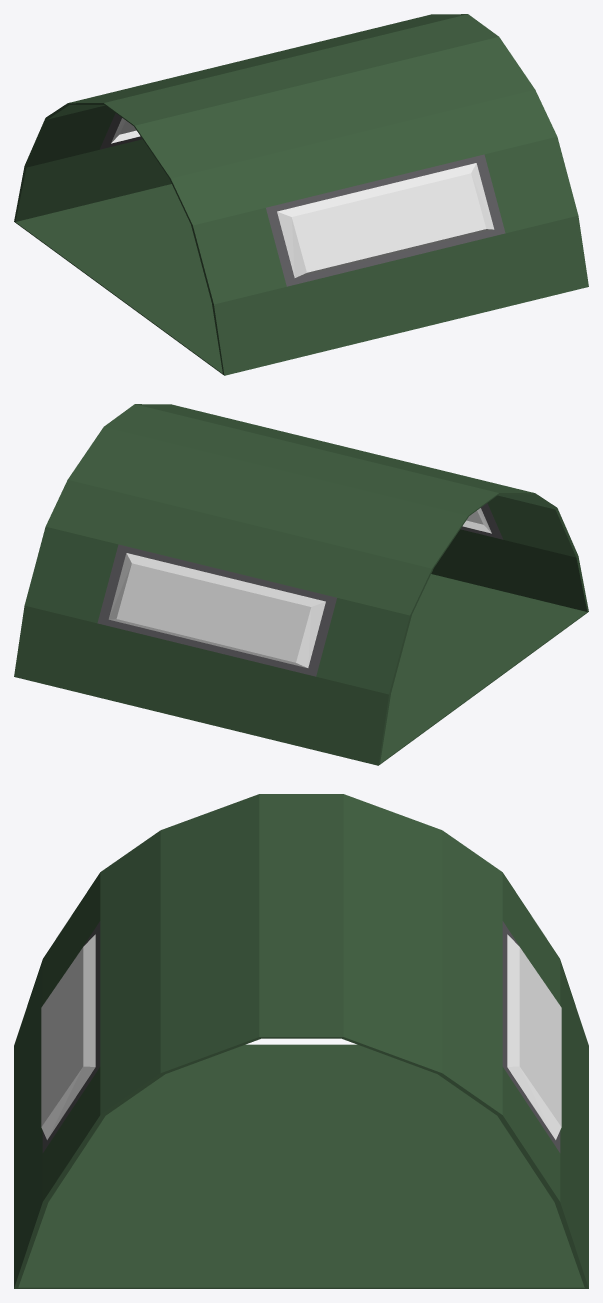
3 renders of one model, top to bottom at view 1: azimuth 30°, elevation 25°; view 2: azimuth 150°, elevation 25°; view 3: azimuth 270°, elevation 25°, orthographic. The views are drawn at different scales.
Visible parts, largest first — view 1: Cube; view 2: Cube; view 3: Cube.
Part boxes in pixels (bbox=[...]): Cube: bbox=[14, 14, 588, 375]; Cube: bbox=[14, 404, 588, 765]; Cube: bbox=[14, 794, 588, 1288].
Size of the model in its own units: 6 by 6 by 2.9.
